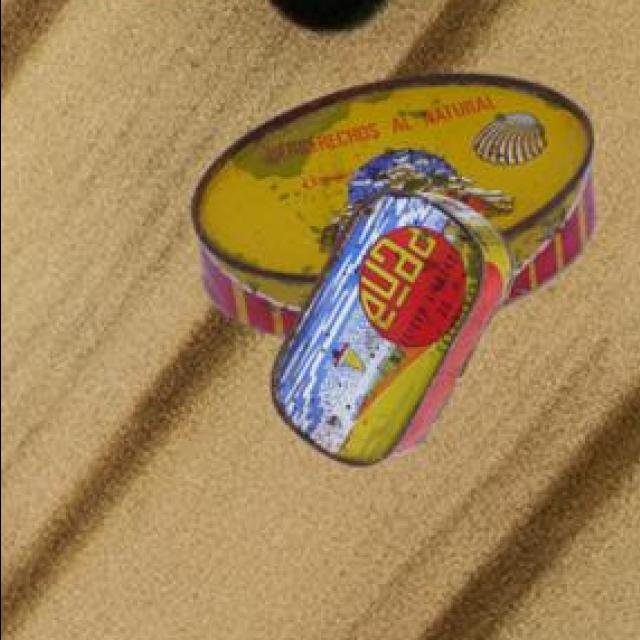logam: (194, 70, 599, 333), (274, 187, 516, 462)
